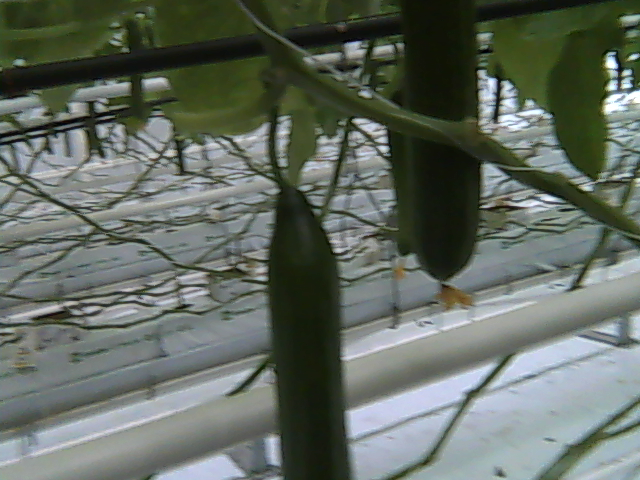concombre: (395, 2, 483, 314), (264, 180, 355, 480)
